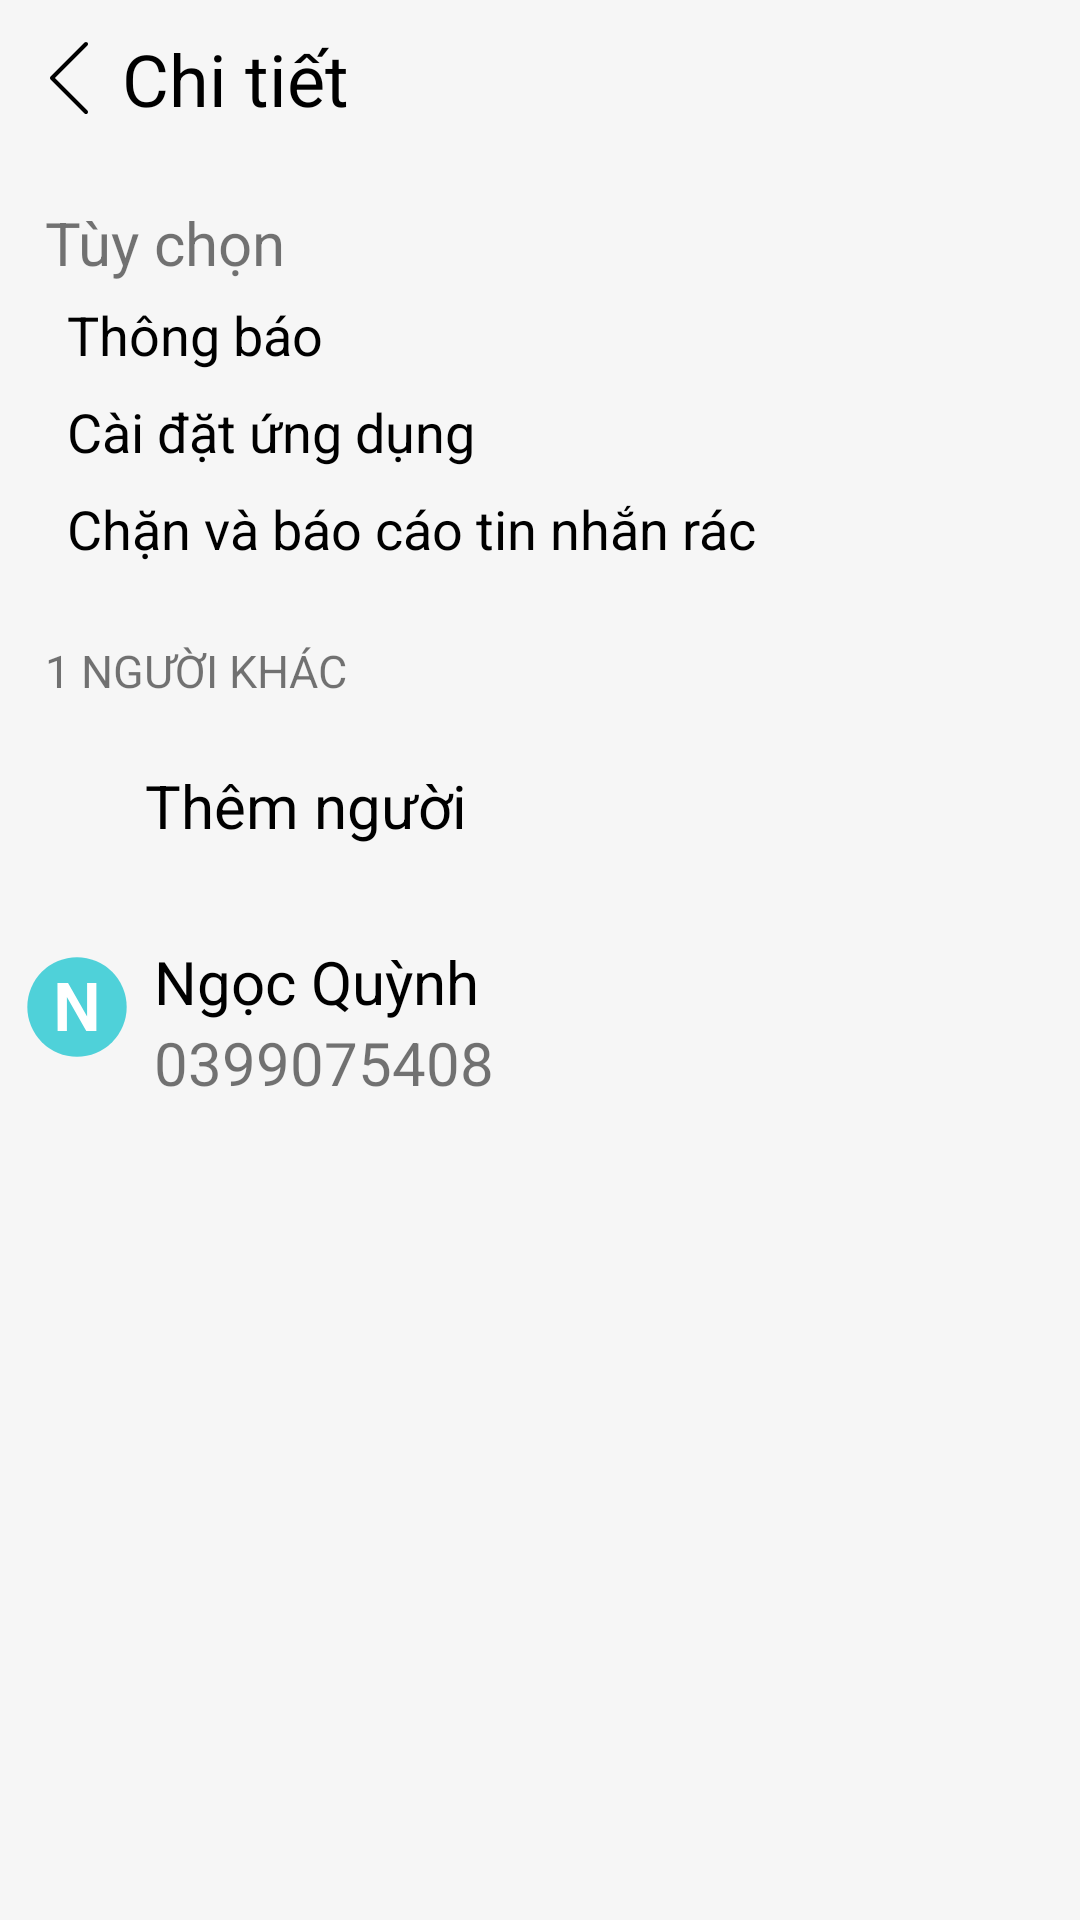

Icon click points for this 1080px x 1920px phone screenshot, format (x=x, y=y):
backmsg: (x=69, y=78)
